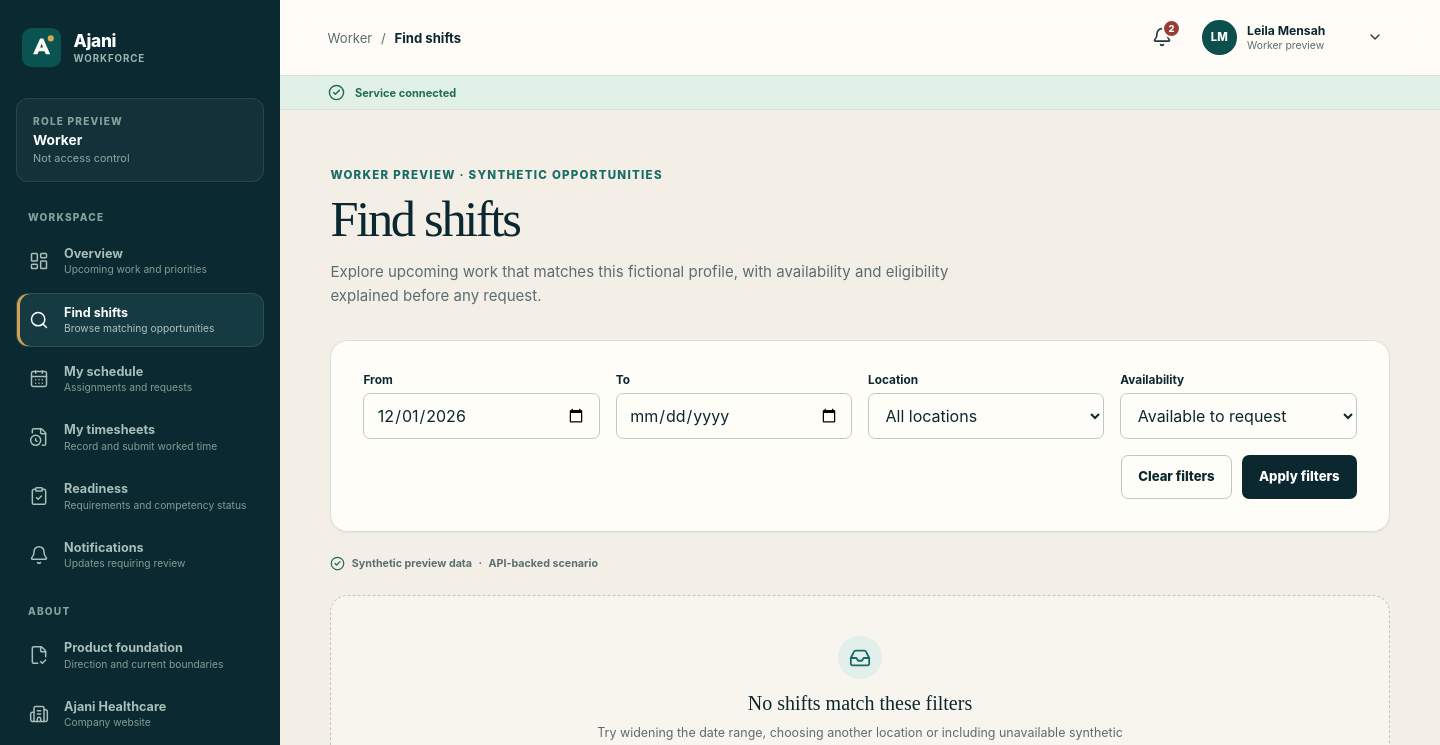
Test: worker shift journey › shows field-level date validation and a natural empty result
Expected: the heading "No shifts match these filters" is shown, [748,692,972,714]
Type "2026-09-02" into the date field labelled "From" at (482, 416), box [363,393,600,439]
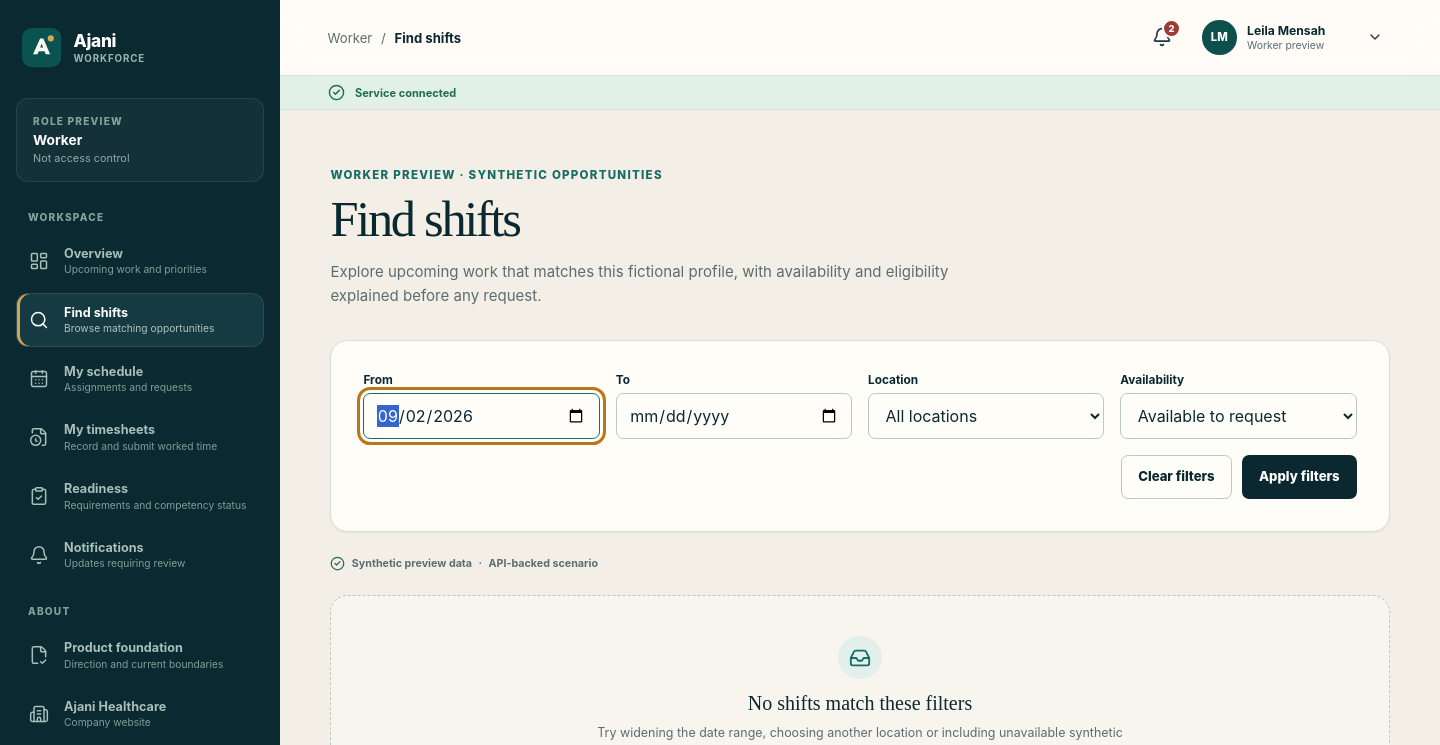
Type "2026-09-01" into the date field labelled "To" at (734, 416), box [616,393,852,439]
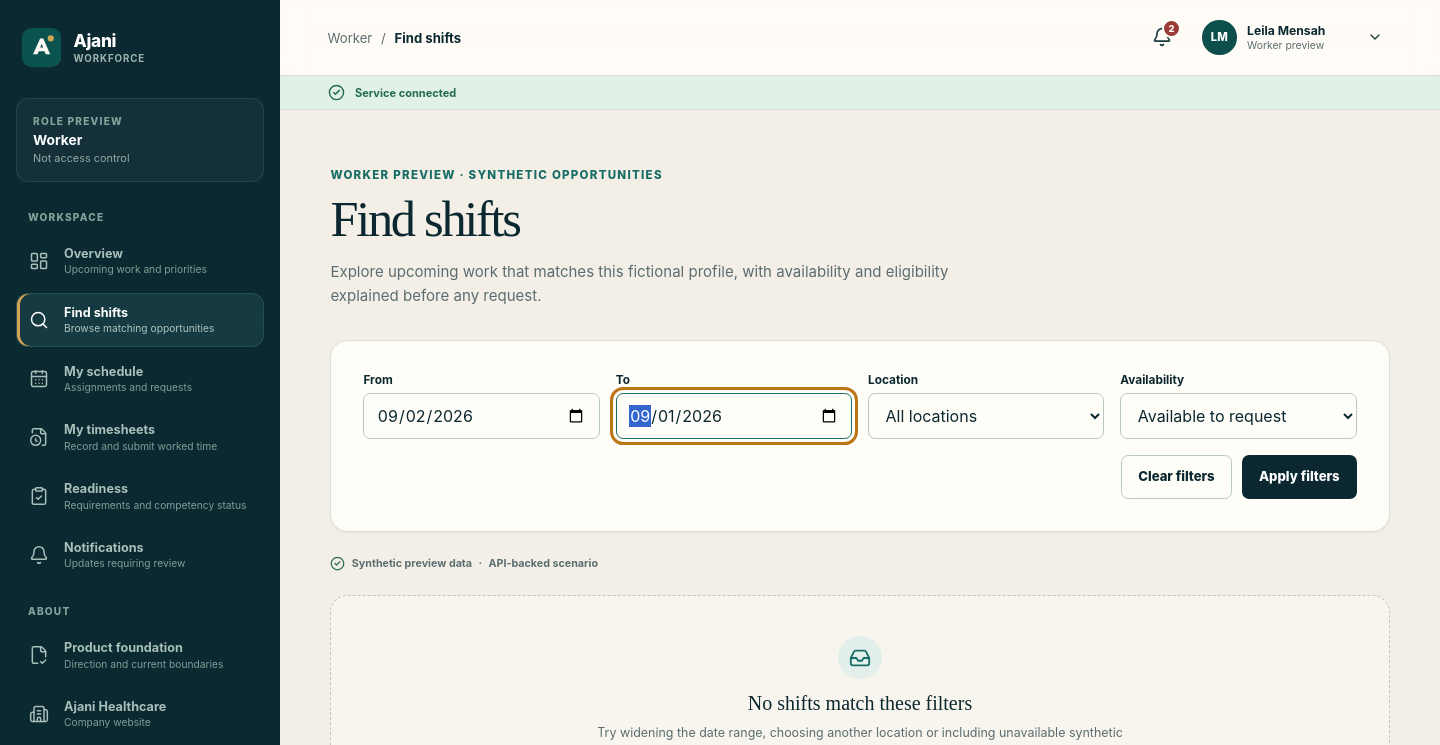
Click the button "Apply filters" at (1299, 477), box [1242,455,1357,499]
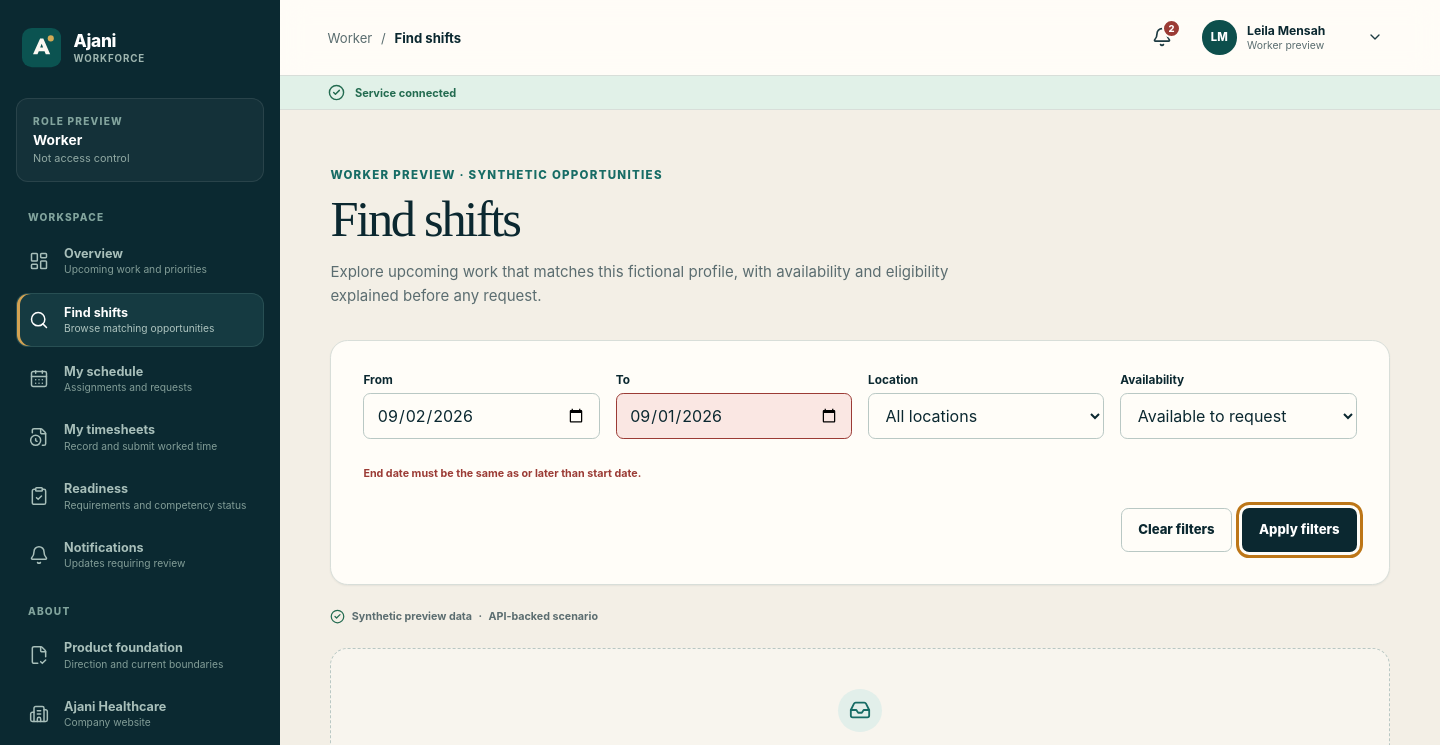
Now the message shows "End date must be", box [363,467,641,480]
